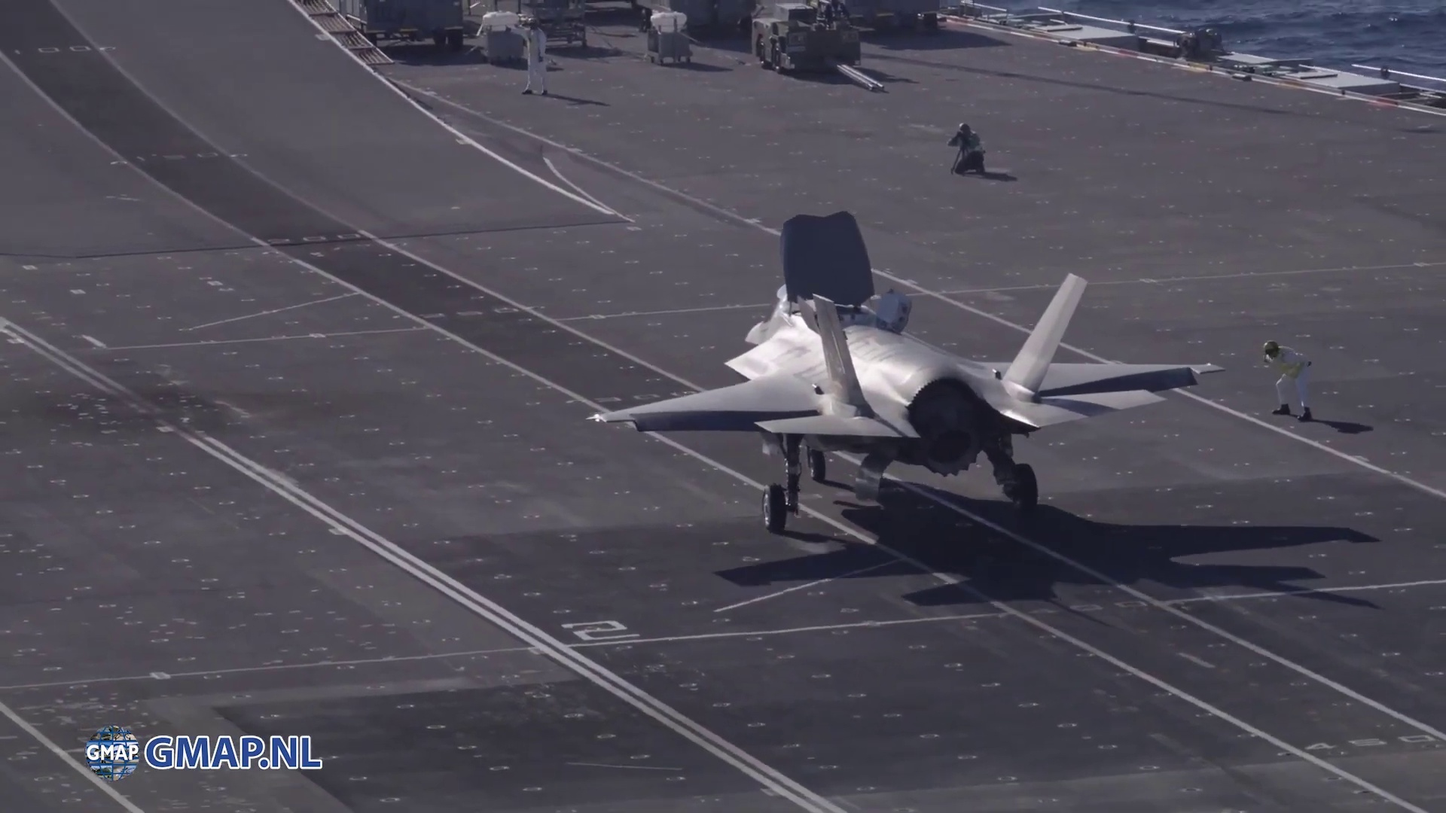F35: (589, 207, 1229, 535)
